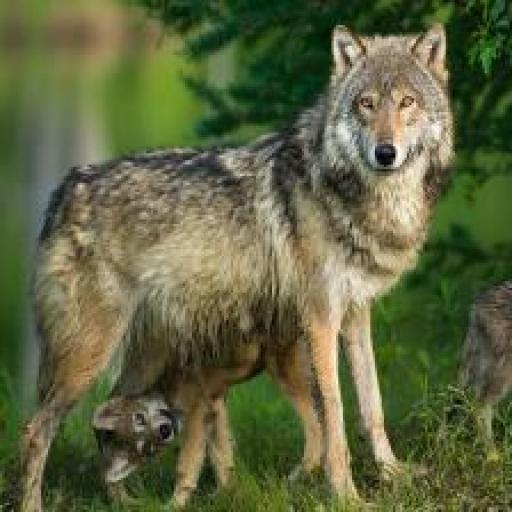wolf: (0, 4, 512, 454)
